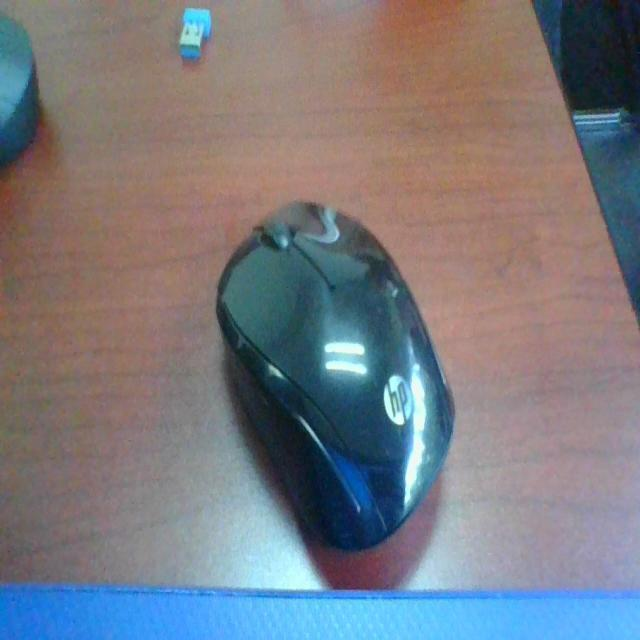Mouse: (204, 183, 494, 564)
